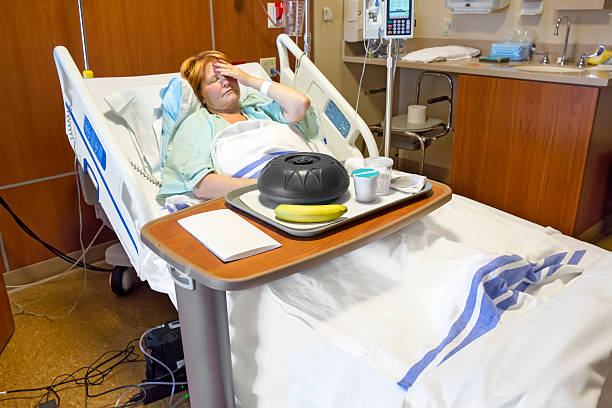bedrail: (46, 47, 155, 274), (277, 33, 377, 154)
chair: (373, 74, 455, 159)
faucet: (542, 16, 585, 69)
hospital_bed: (52, 33, 612, 408)
infusion_pump: (364, 1, 414, 39)
iv_pole: (380, 1, 401, 166)
overbed_table: (136, 163, 456, 304)
patient: (168, 50, 325, 193)
sink: (512, 60, 588, 77)
